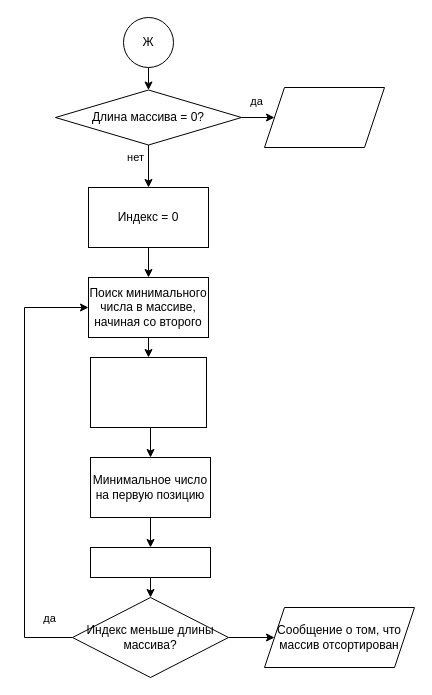
This 432x695 diagram has some shape labels left out. The shapes that lost their labels are listed below. From the top down, each one's centre as x and y in pixels, then its label:
At (x=324, y=117): "Массив пуст".
At (x=148, y=392): "В новую переменную присваиваем значение первого числа в массиве".
At (x=150, y=562): "Индекс +=1".
